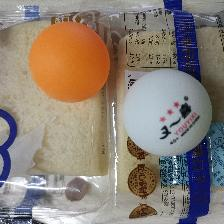WhiteBall: (122, 68, 211, 156)
YellowBall: (27, 21, 110, 103)
